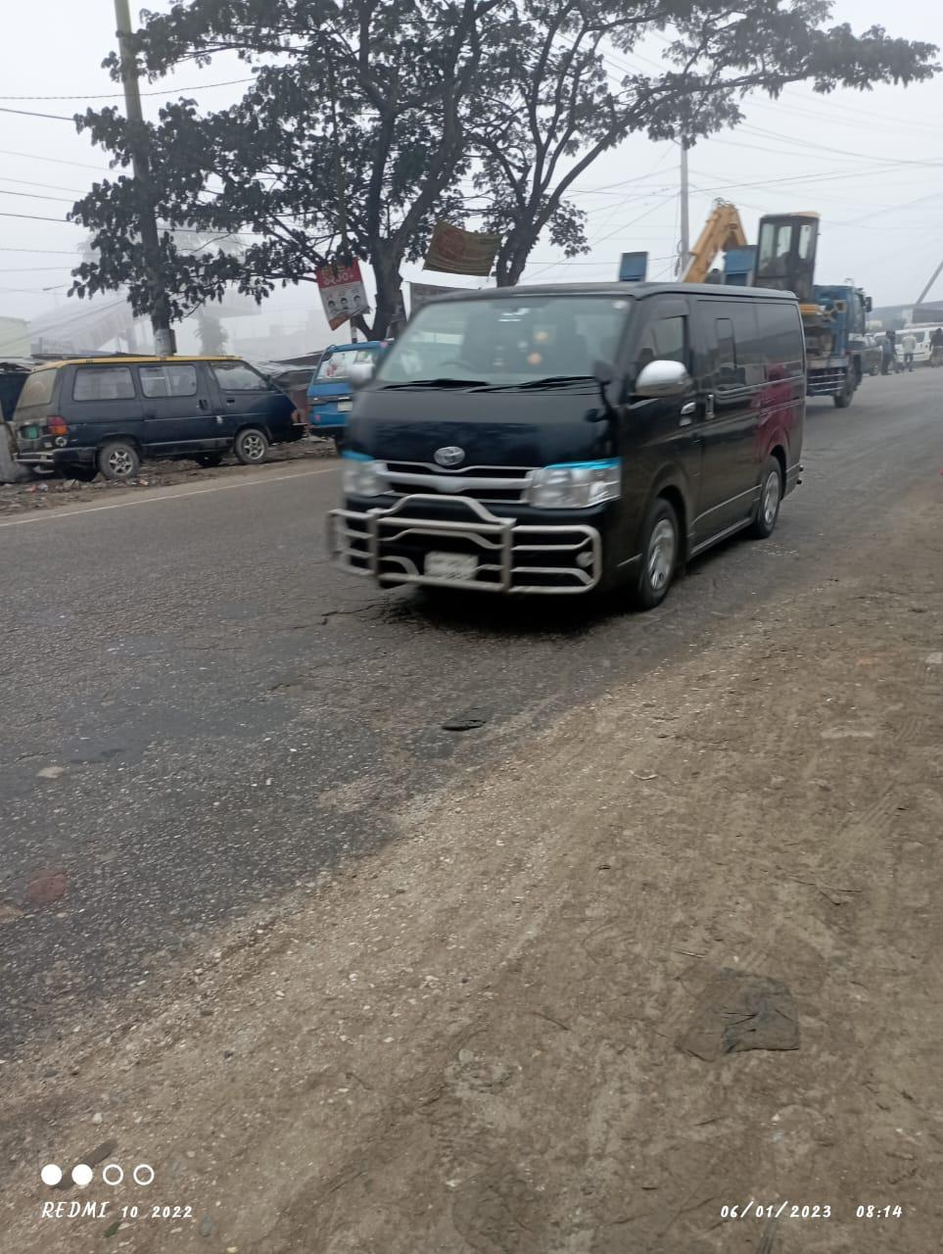Car: (317, 244, 821, 616), (21, 350, 302, 473)
Truck: (764, 200, 882, 435), (291, 332, 378, 454)
